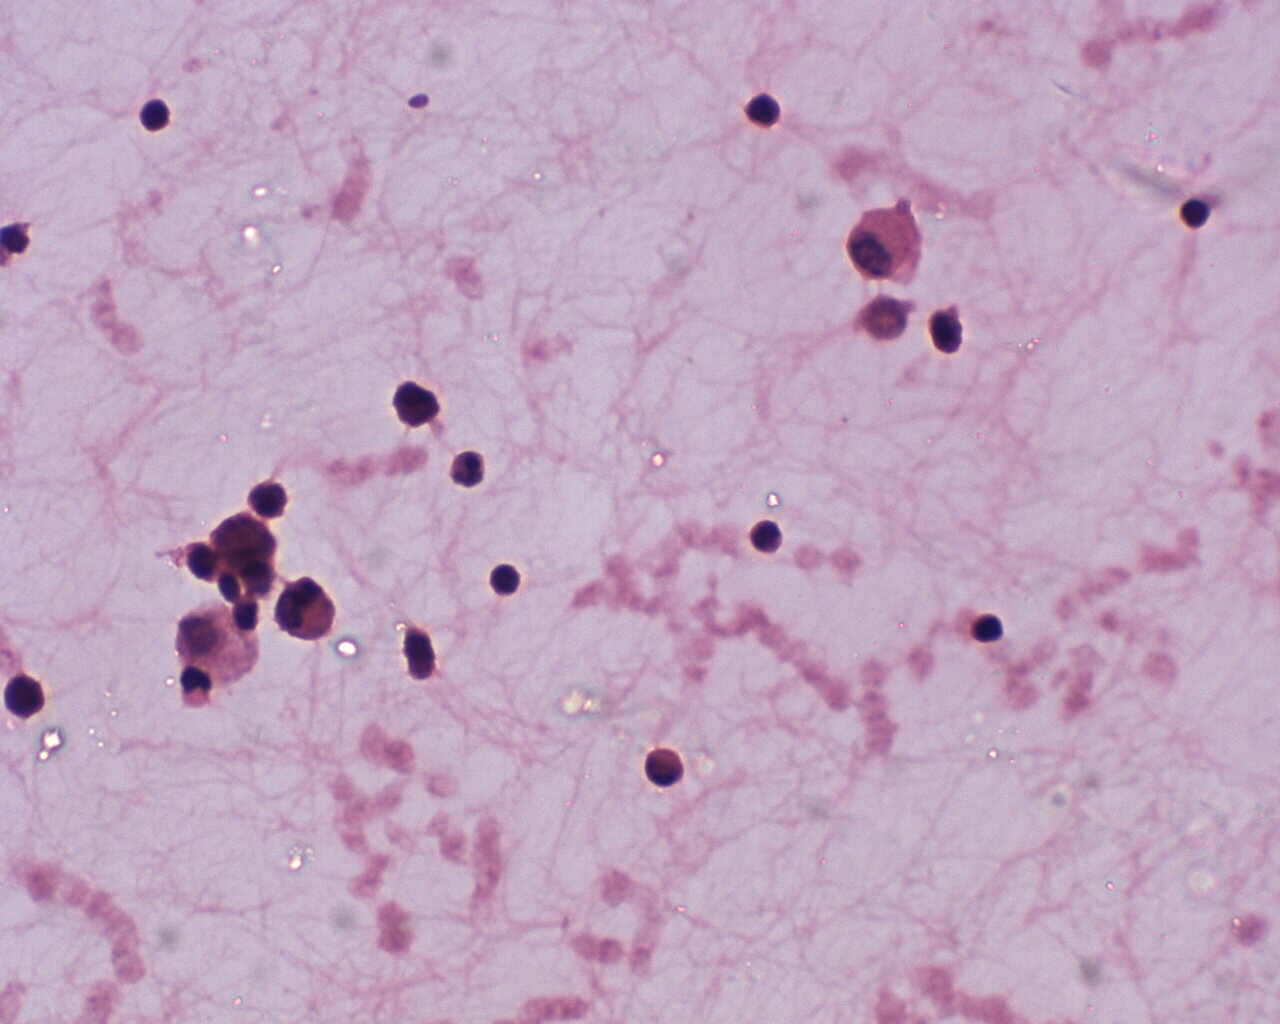ab: (270, 577, 339, 647)
lymph: (744, 89, 782, 133), (137, 92, 172, 136), (969, 610, 1011, 643), (748, 518, 785, 556), (489, 560, 522, 597), (1177, 196, 1213, 228)
meso: (848, 197, 924, 280)
neutro: (451, 448, 485, 489)
